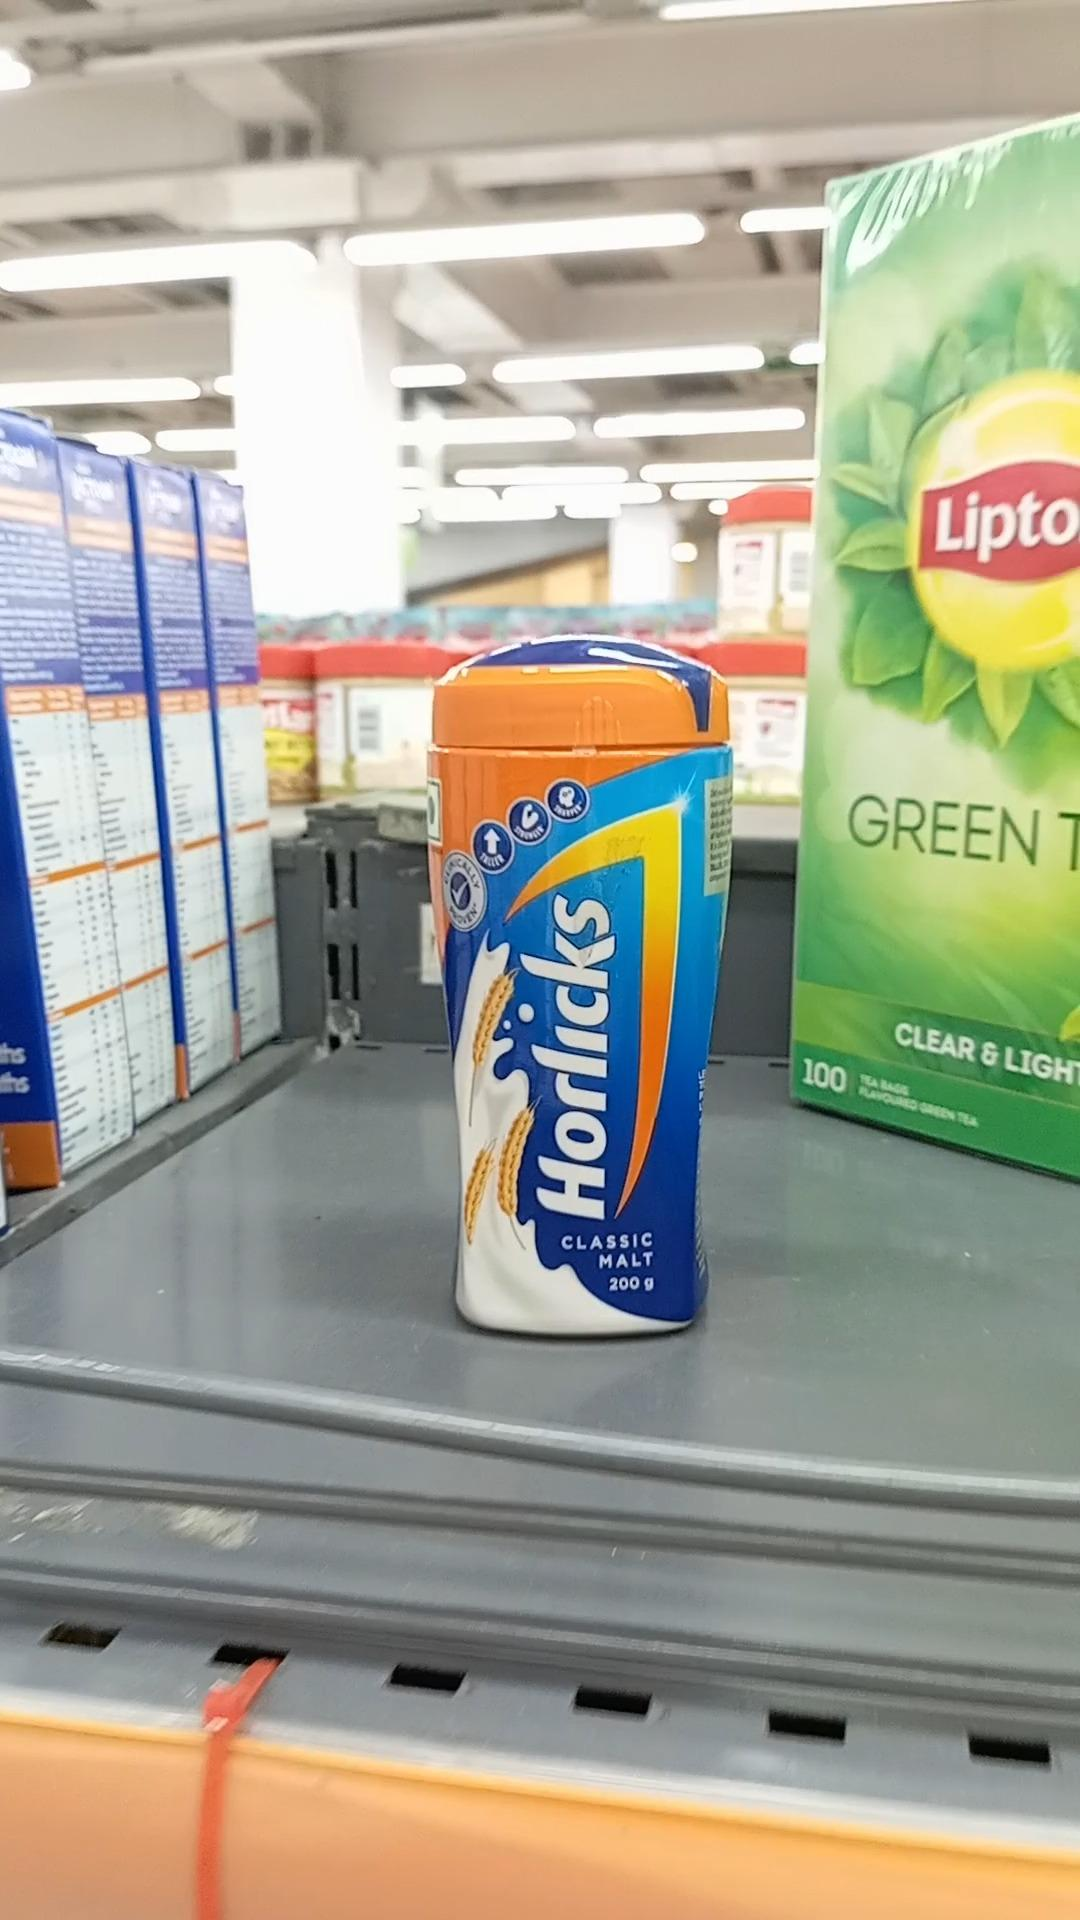HORLICK_CLASSIC_MALT_200_G_JAR: (429, 615, 709, 1348)
